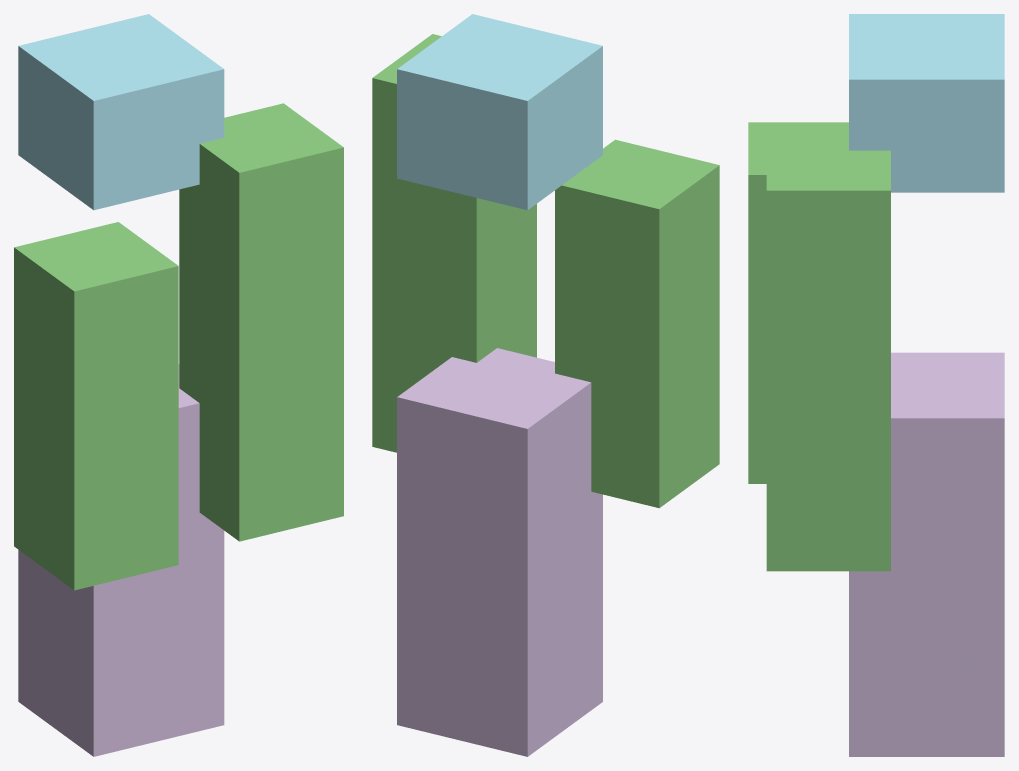
The model's file is Item_Herb_AMF_Starkibble_Bundle1.glb.
The picture shows the model from 3 angles, left to right: view 1: azimuth 30°, elevation 25°; view 2: azimuth 150°, elevation 25°; view 3: azimuth 270°, elevation 25°; orthographic projection. The views are drawn at different scales.
Visible parts, largest first — view 1: Item_Herb_AMF_Starkibble_Bundle1; view 2: Item_Herb_AMF_Starkibble_Bundle1; view 3: Item_Herb_AMF_Starkibble_Bundle1.
Boxes of the visible parts, box(x1,y1,x2,y2) form: Item_Herb_AMF_Starkibble_Bundle1: box(14, 14, 343, 756); Item_Herb_AMF_Starkibble_Bundle1: box(372, 14, 719, 756); Item_Herb_AMF_Starkibble_Bundle1: box(748, 14, 1004, 756).
Size of the model in its own units: 0.1066 by 0.24 by 0.0822.
